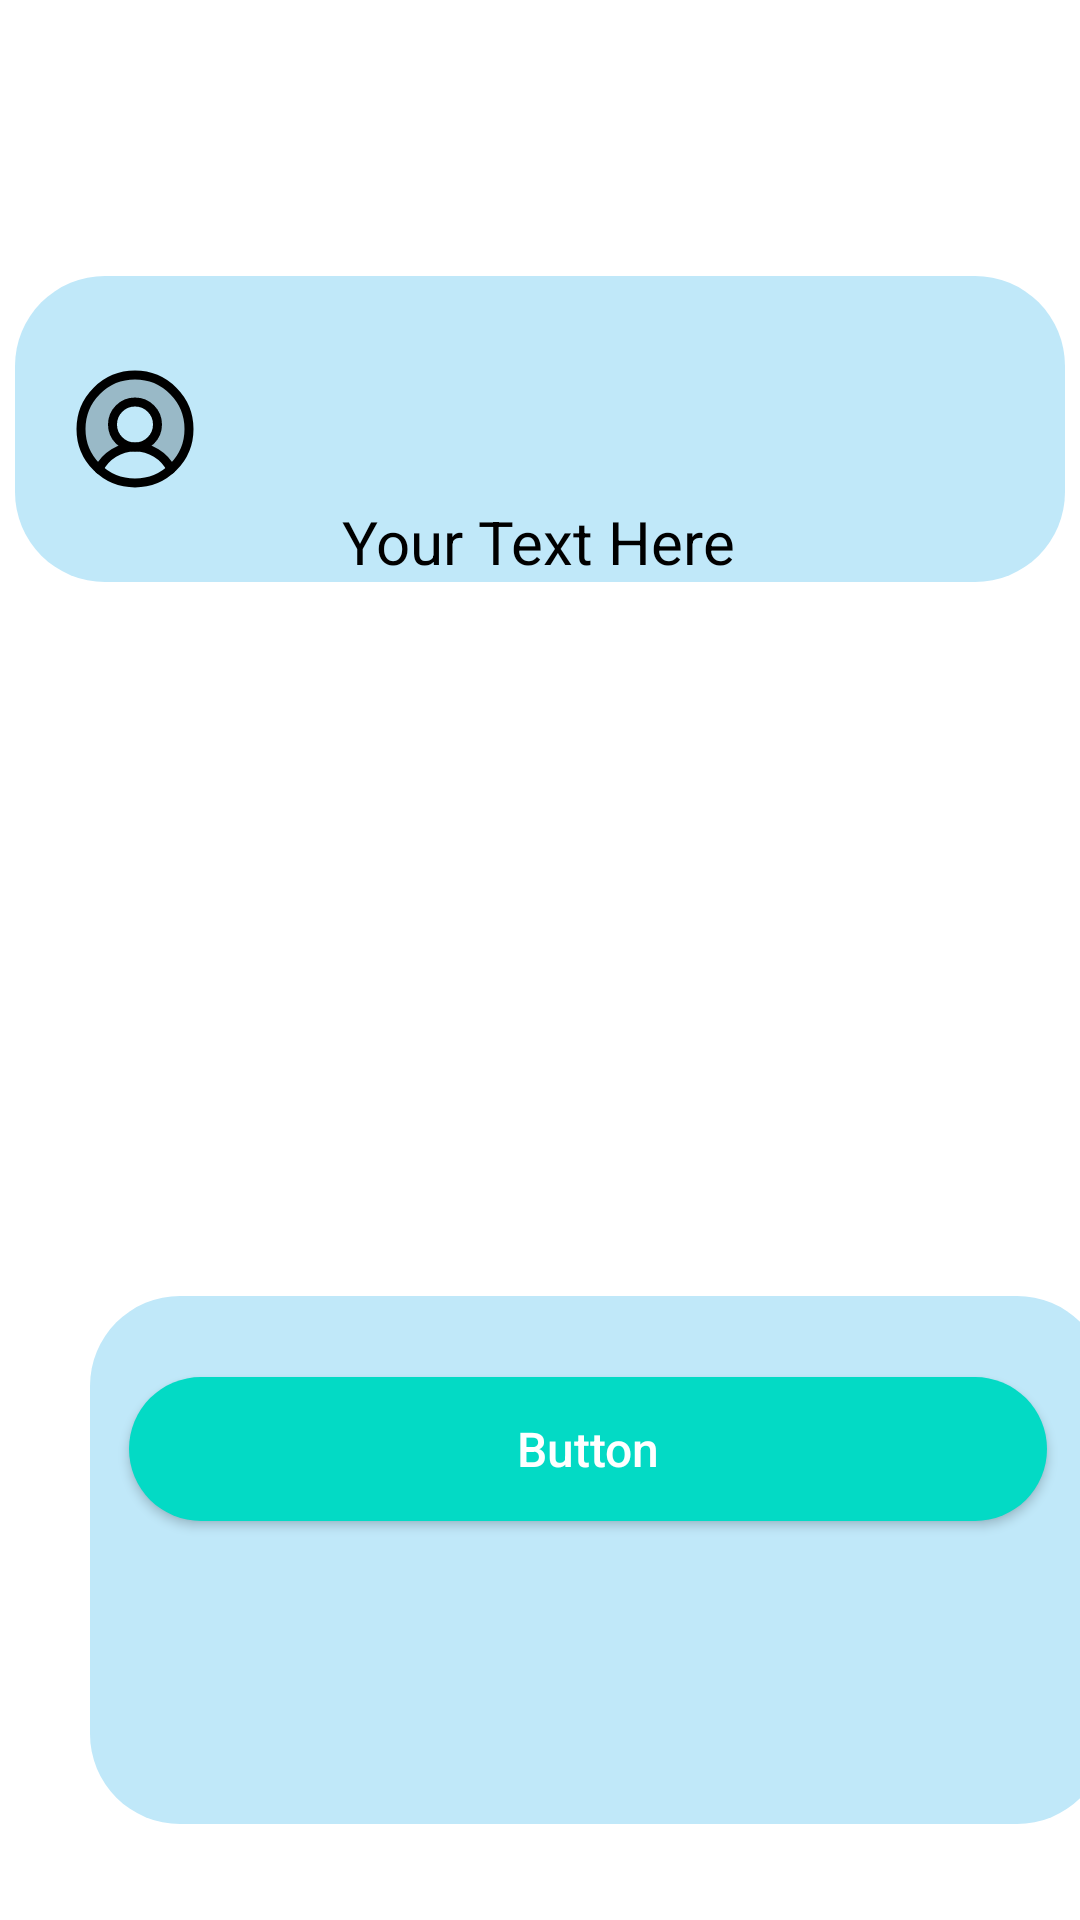

Icon click points for this 1080×1920 phone screenshot, format [x,y]:
person: [135,429]
